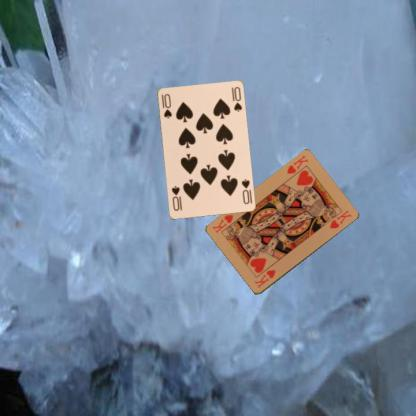10s: (159, 91, 173, 120), (238, 176, 250, 205)
Kh: (284, 152, 310, 176), (252, 268, 277, 290)
